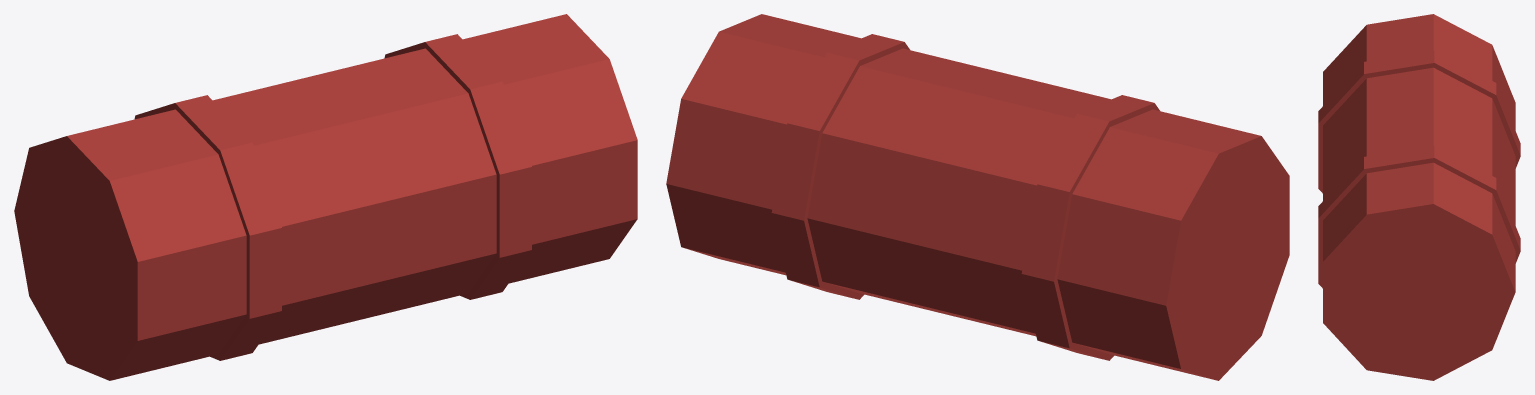
File: bedroll.fbx
3 views of the same model, side by side, from view 1: azimuth 30°, elevation 25°; view 2: azimuth 150°, elevation 25°; view 3: azimuth 270°, elevation 25° (orthographic). The views are drawn at different scales.
Visible parts, largest first — view 1: Bedroll; view 2: Bedroll; view 3: Bedroll.
Part boxes in pixels (x1,y1,x2,y2): Bedroll: (14, 14, 637, 380); Bedroll: (666, 14, 1289, 380); Bedroll: (1318, 14, 1520, 380).
Bounding box in the file's own units: 0.68 × 0.3112 × 0.3065.
